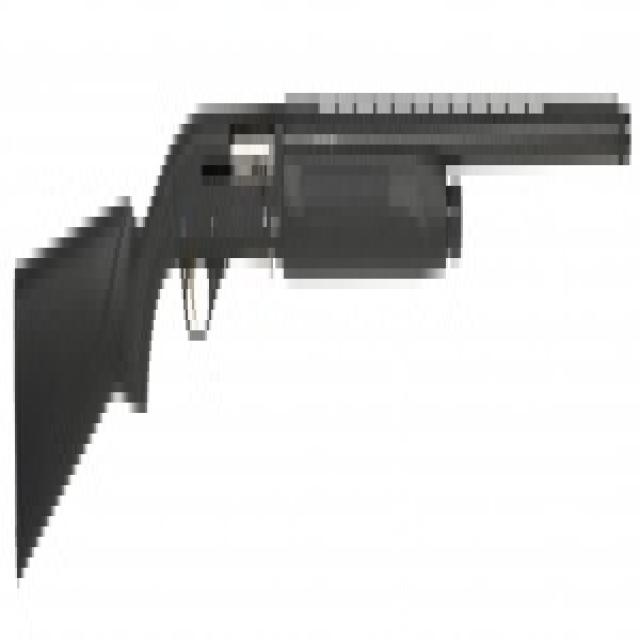rifle: (8, 64, 634, 597)
